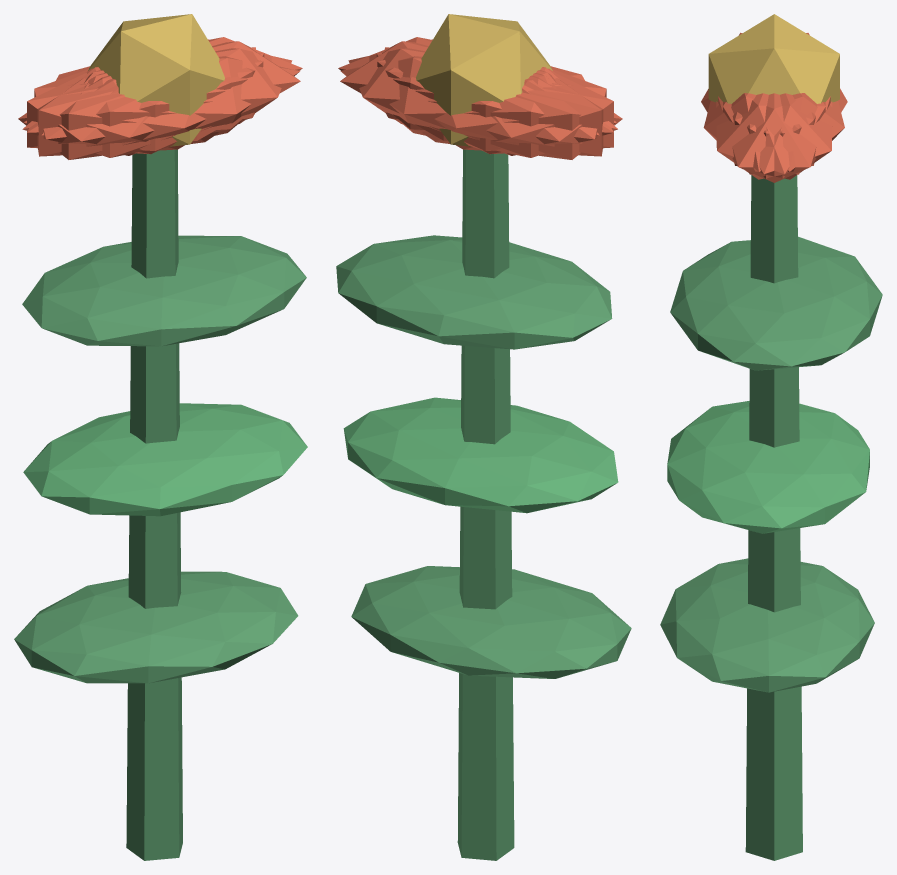
Rendered from homalomena-philippinensis.glb.
3 renders of one model, left to right at view 1: azimuth 30°, elevation 25°; view 2: azimuth 150°, elevation 25°; view 3: azimuth 270°, elevation 25°, orthographic.
Parts seen in each view (by area): view 1: stem, leaf0, leaf2, leaf1, center, petal1, petal6, petal2, petal5, petal7, petal0, petal4 (+2 smaller); view 2: stem, leaf2, leaf0, leaf1, center, petal8, petal3, petal7, petal4, petal2, petal0, petal5 (+2 smaller); view 3: stem, leaf2, leaf1, leaf0, center, petal0, petal5, petal4, petal8, petal1.
Part boxes in pixels (<box>): stem: <box>126,149,182,860</box>; leaf0: <box>14,571,298,683</box>; leaf2: <box>22,235,306,346</box>; leaf1: <box>23,403,307,516</box>; center: <box>88,14,224,146</box>; petal1: <box>22,56,299,157</box>; petal6: <box>18,68,218,159</box>; petal2: <box>37,47,255,156</box>; petal5: <box>41,48,292,150</box>; petal7: <box>27,53,264,154</box>; petal0: <box>88,41,300,141</box>; petal4: <box>24,37,302,132</box>; stem: <box>457,149,514,860</box>; leaf2: <box>336,235,612,349</box>; leaf0: <box>351,566,631,678</box>; leaf1: <box>343,397,618,513</box>; center: <box>416,14,552,146</box>; petal8: <box>340,56,617,157</box>; petal3: <box>421,68,622,159</box>; petal7: <box>384,47,603,156</box>; petal4: <box>348,48,599,150</box>; petal2: <box>376,53,613,154</box>; petal0: <box>340,41,552,141</box>; petal5: <box>338,37,616,132</box>; stem: <box>745,175,802,860</box>; leaf2: <box>670,236,882,370</box>; leaf1: <box>667,401,869,533</box>; leaf0: <box>660,558,874,692</box>; center: <box>708,14,839,103</box>; petal0: <box>718,93,830,182</box>; petal5: <box>716,93,825,179</box>; petal4: <box>723,93,832,179</box>; petal8: <box>732,93,844,171</box>; petal1: <box>703,93,815,171</box>.
Size of the model in its own units: 0.1452 by 0.4198 by 0.1036.
